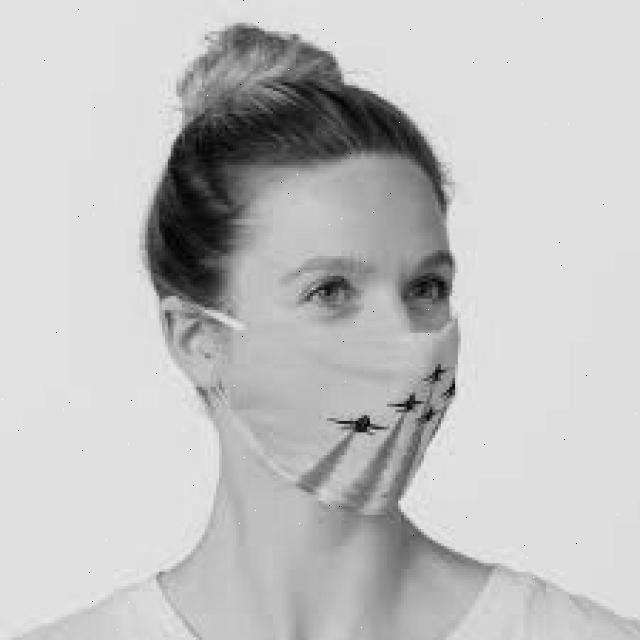fake: (225, 307, 464, 516)
real: (218, 155, 463, 532)
